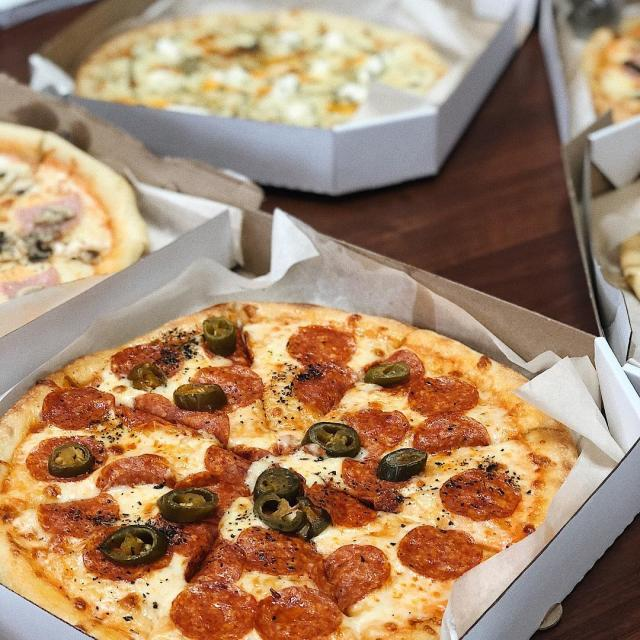pepperoni: (168, 579, 258, 640), (312, 542, 390, 611), (252, 584, 342, 640), (395, 525, 484, 581), (83, 526, 174, 580), (237, 526, 325, 578), (438, 468, 522, 522), (36, 490, 121, 541), (192, 364, 266, 416), (340, 408, 410, 462), (26, 436, 107, 482), (41, 383, 116, 432), (290, 362, 358, 416), (173, 469, 252, 515), (412, 411, 492, 456), (281, 324, 358, 368), (303, 484, 378, 528), (96, 452, 177, 492), (108, 342, 184, 381), (362, 349, 425, 396), (182, 539, 247, 584), (153, 514, 222, 555), (408, 376, 481, 414), (338, 456, 412, 492), (170, 405, 232, 447), (119, 394, 178, 429), (202, 328, 255, 366), (204, 444, 250, 481), (232, 448, 272, 461)
pizza: (0, 303, 580, 640), (73, 9, 448, 132), (0, 125, 149, 299), (572, 10, 640, 126)
